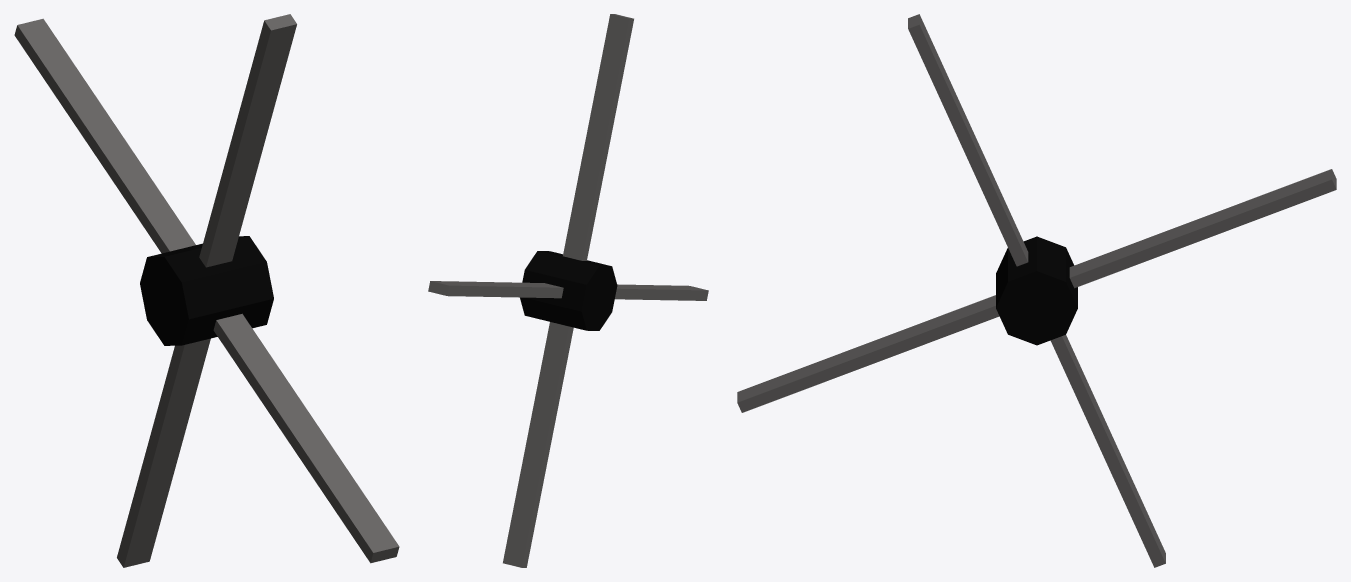
Rendered from EnemyApacheExxtraBlade.fbx.
3 views of the same model, side by side, from view 1: azimuth 30°, elevation 25°; view 2: azimuth 150°, elevation 25°; view 3: azimuth 270°, elevation 25° (orthographic). The views are drawn at different scales.
Parts seen in each view (by area): view 1: Cube.001; view 2: Cube.001; view 3: Cube.001.
Boxes of the visible parts, x1=… form: Cube.001: x1=14, y1=14, x2=399, y2=567; Cube.001: x1=428, y1=14, x2=708, y2=567; Cube.001: x1=737, y1=14, x2=1336, y2=567.
Size of the model in its own units: 28 by 204 by 204.
1 material, 1 textured.
